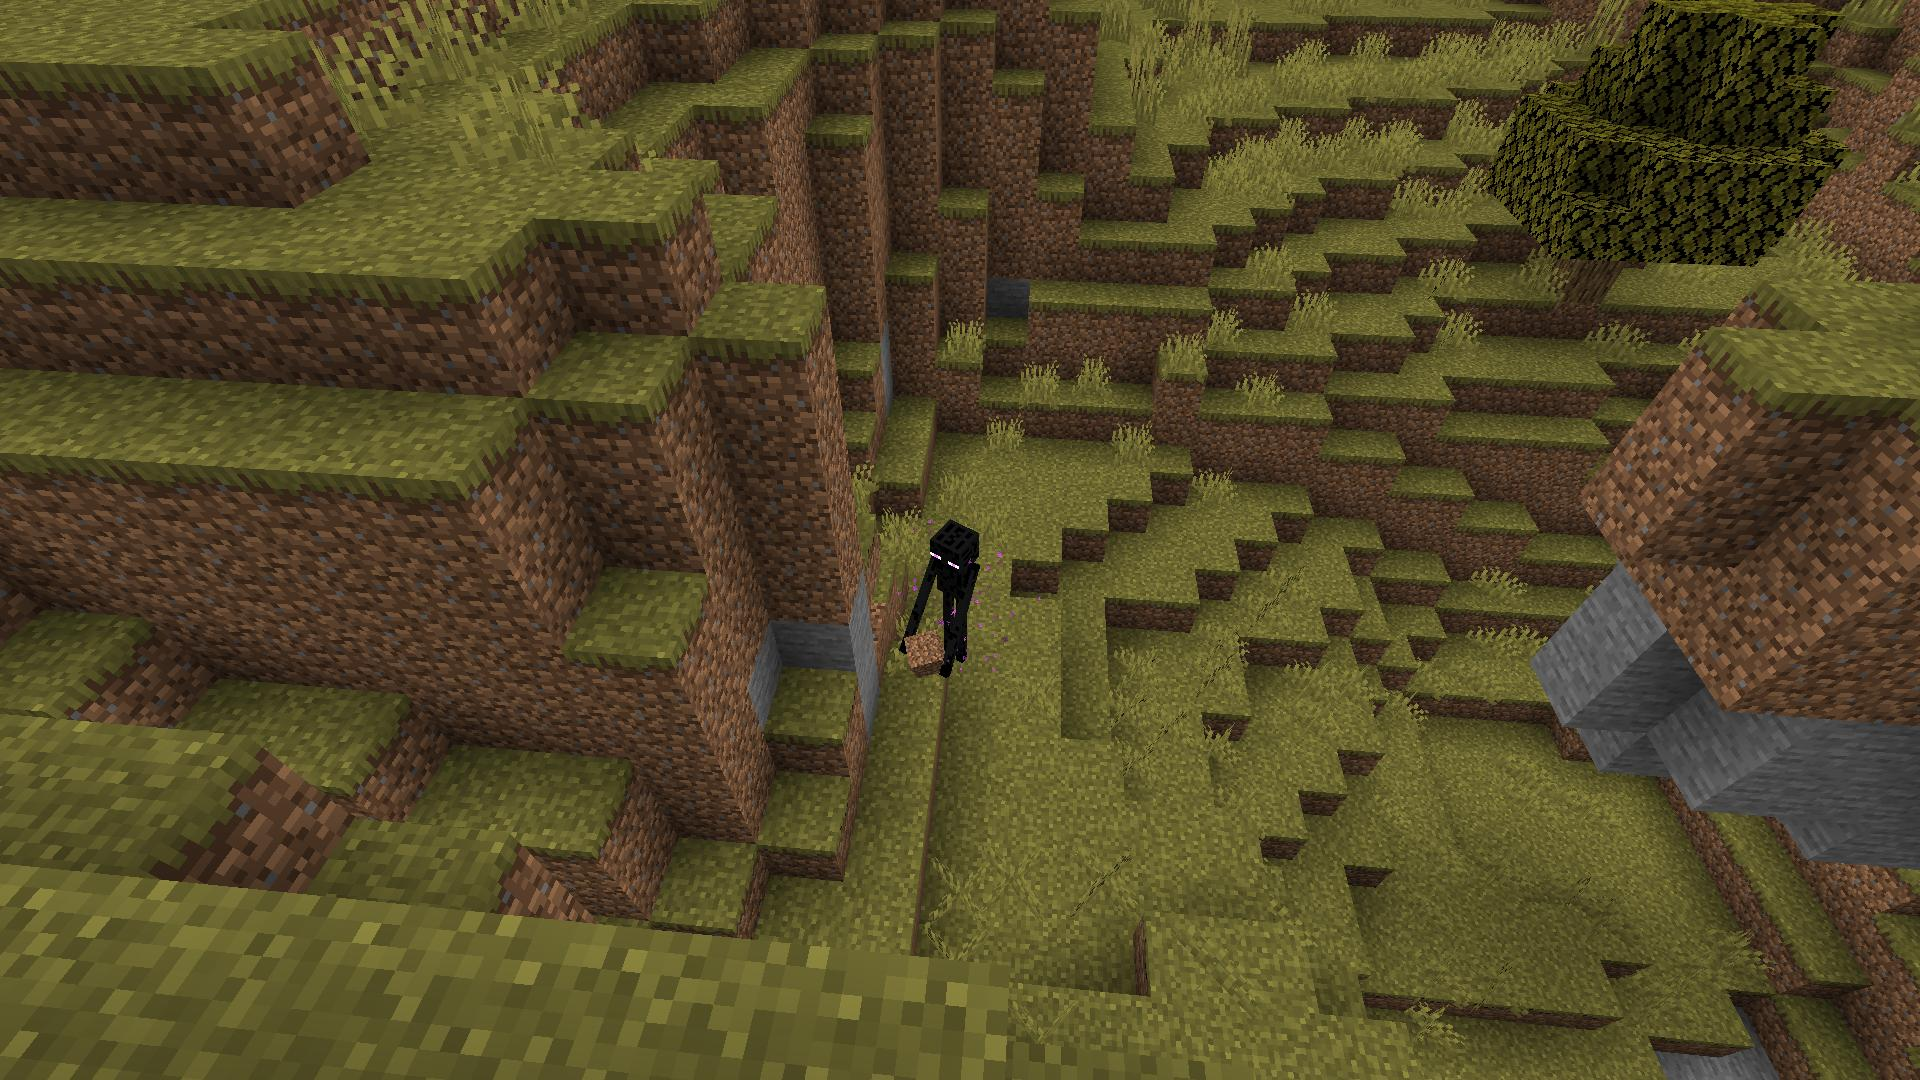enderman: (894, 506, 990, 699)
